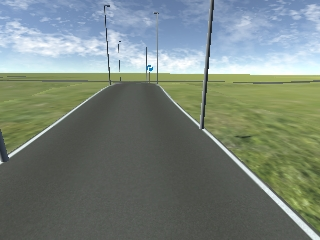right: (146, 66, 155, 73)
